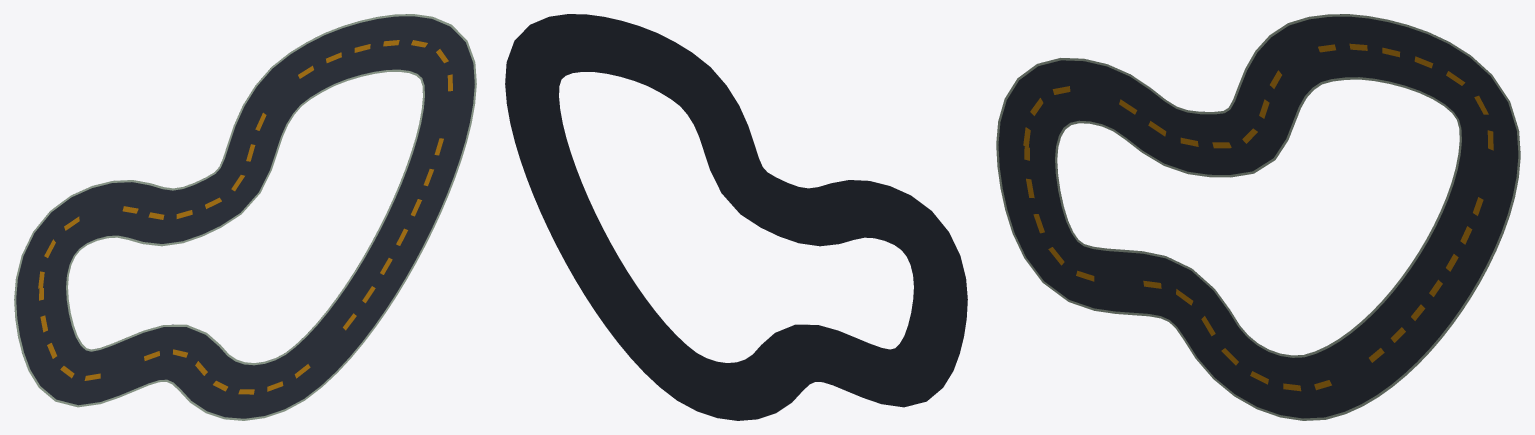
Rendered from track.obj.
3 renders of one model, left to right at view 1: azimuth 30°, elevation 25°; view 2: azimuth 150°, elevation 25°; view 3: azimuth 330°, elevation 25°, orthographic. The views are drawn at different scales.
Size of the model in its own units: 9.1 by 7.03 by 0.002.
